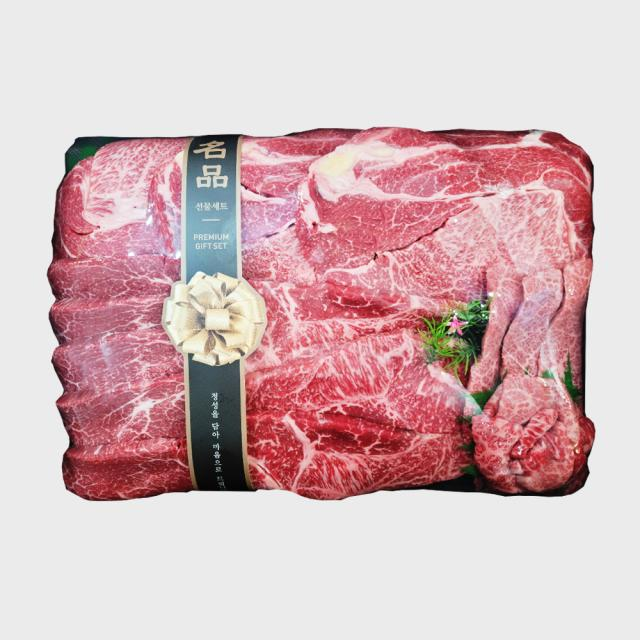beef: (76, 143, 568, 479)
